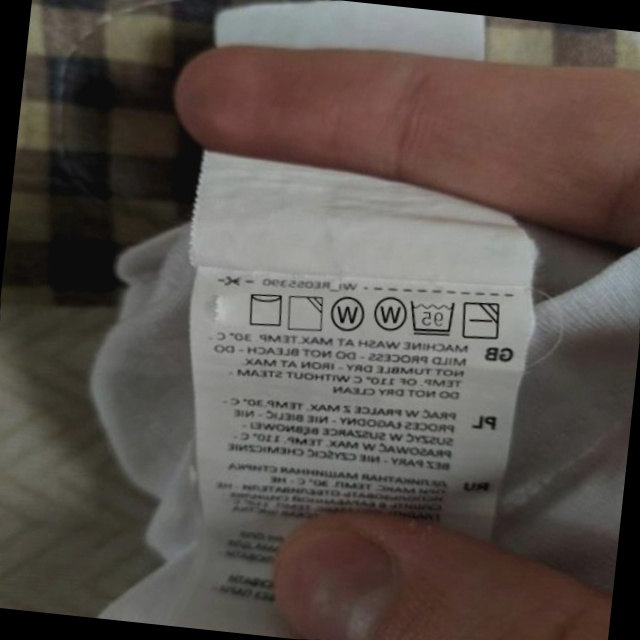95C: (405, 294, 459, 340)
dry_flat_in_shade: (459, 296, 505, 344)
line_dry: (242, 287, 288, 331)
shade_dry: (283, 290, 328, 336)
wet_clean: (326, 292, 369, 337), (368, 290, 410, 336)
